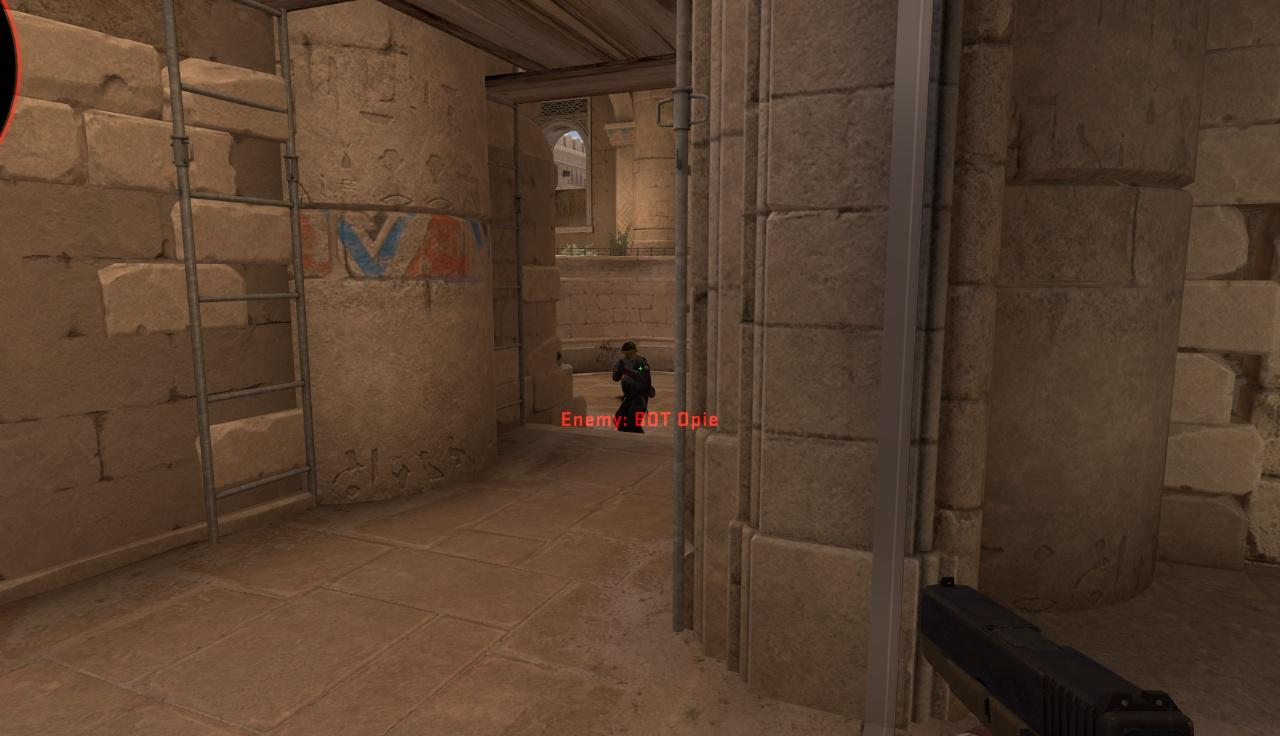ct: (611, 341, 653, 433)
cthead: (621, 341, 637, 362)
pistol: (915, 578, 1194, 733)
